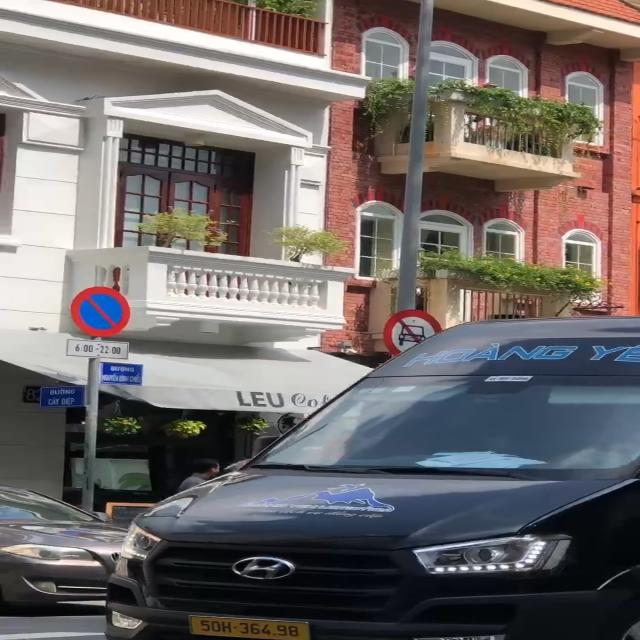Bien bao cam do xe: (64, 283, 138, 339)
Bien bao cam xe oto: (382, 303, 447, 360)
